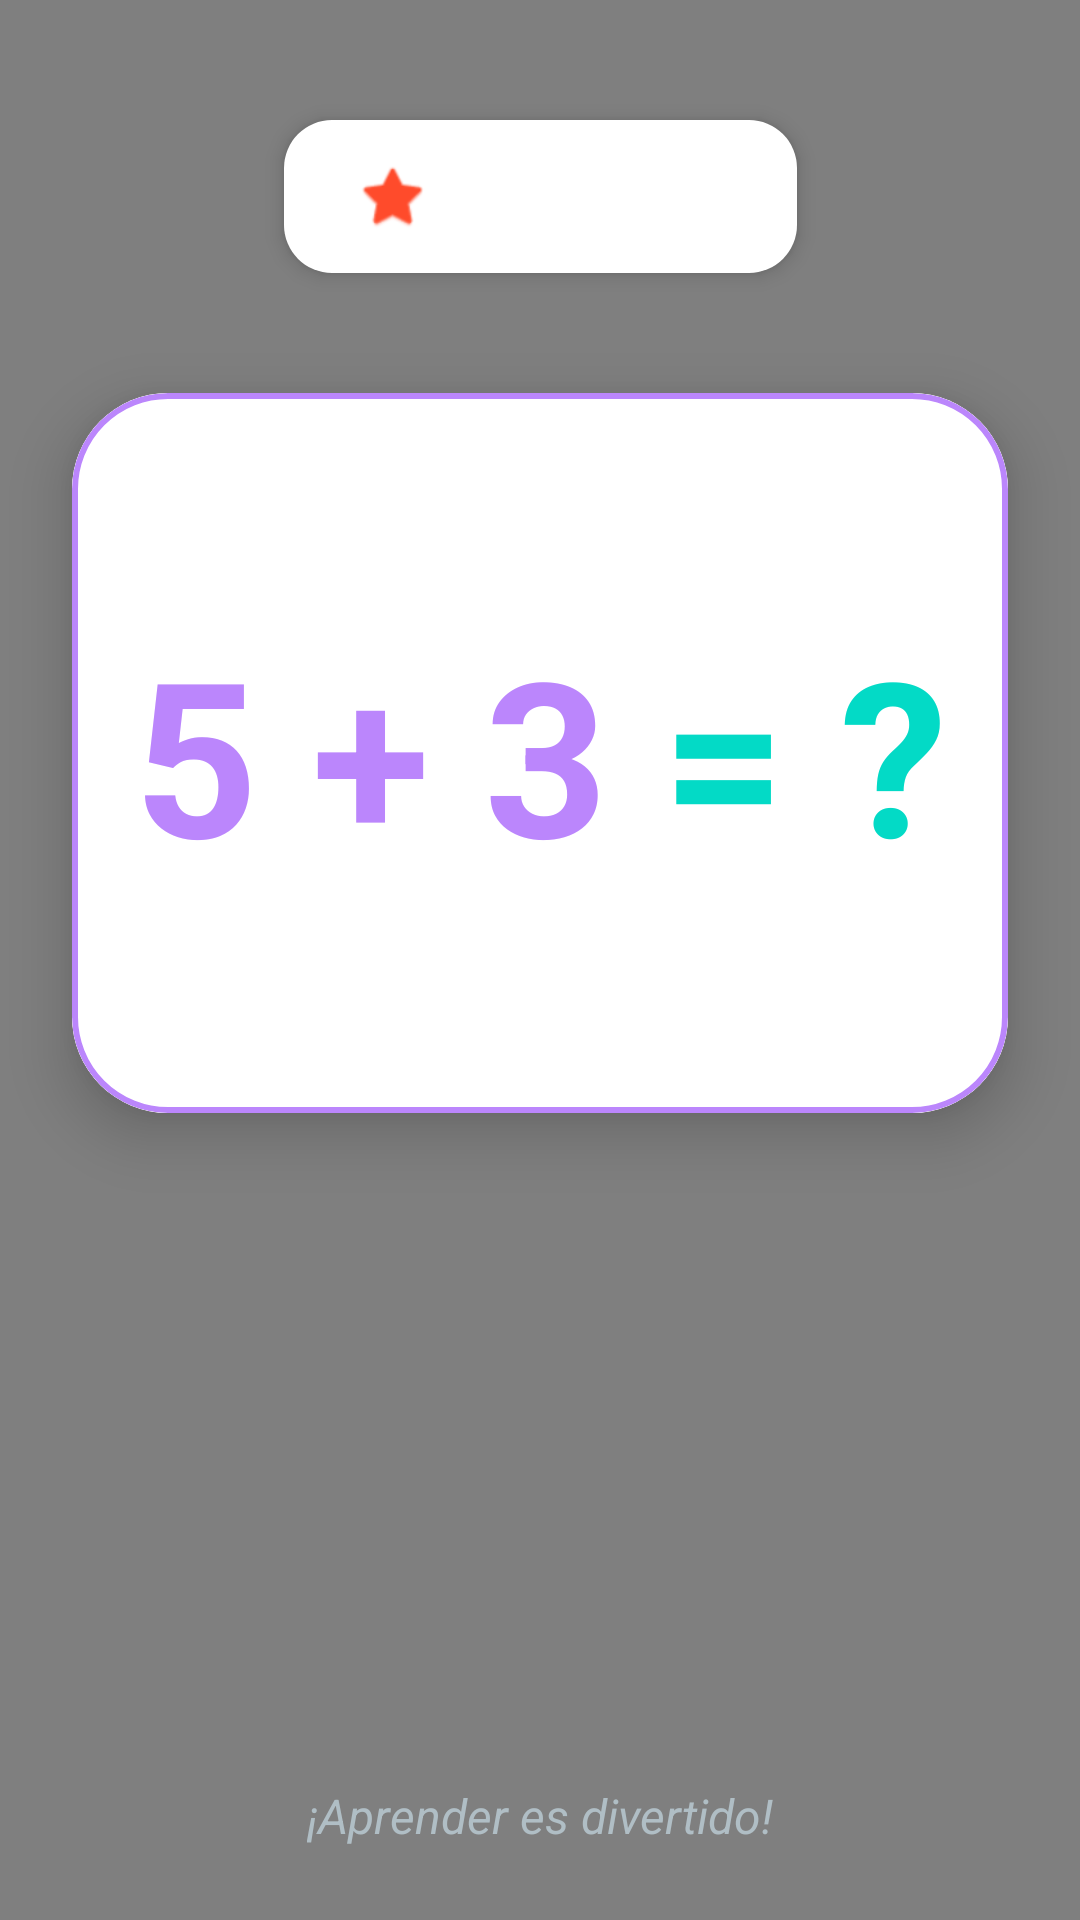

Icons on this 1080w x 1920h Android screen, each with the point to tap as point (x, y):
Estrella de puntaje: point (393, 196)
